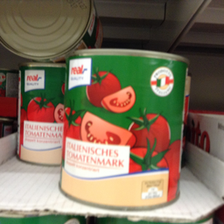tomato_sauce: (57, 48, 189, 211)
